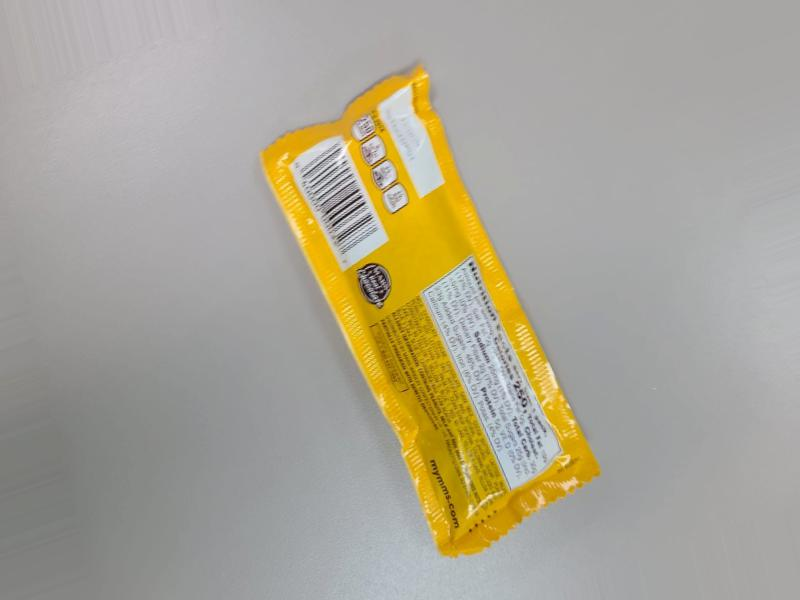m&m: (307, 94, 631, 556)
